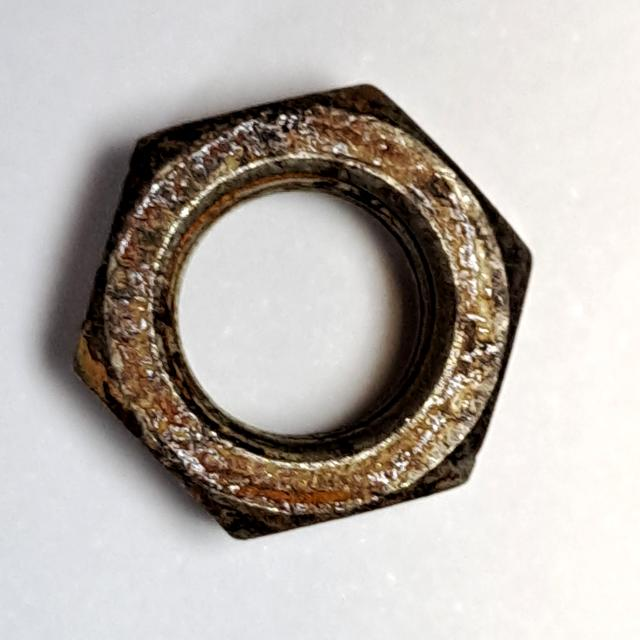Rust: (60, 70, 547, 553)
